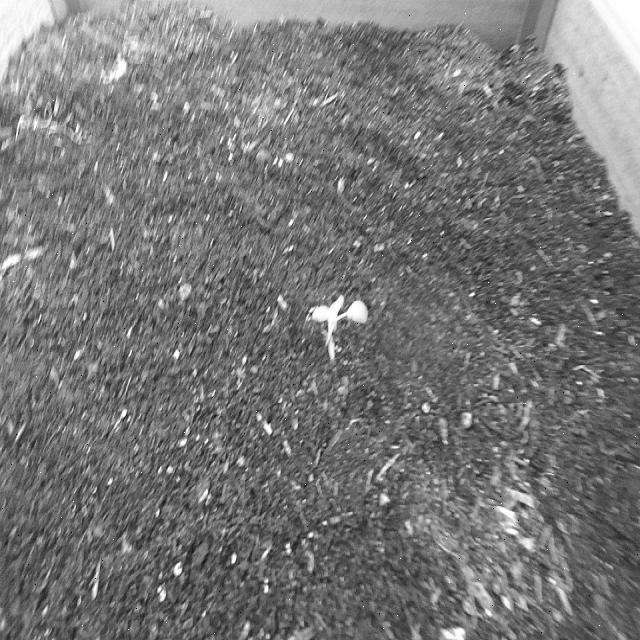Healthy: (303, 280, 372, 373)
